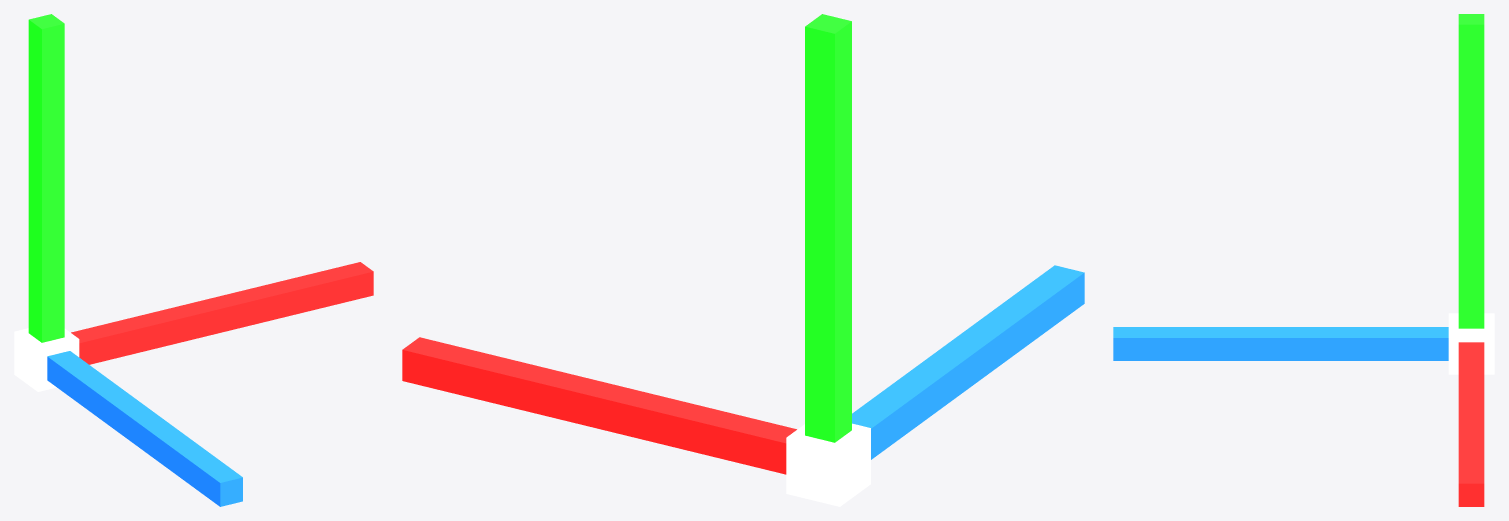
File: axis-triad.glb
3 views of the same model, side by side, from view 1: azimuth 30°, elevation 25°; view 2: azimuth 150°, elevation 25°; view 3: azimuth 270°, elevation 25° (orthographic). The views are drawn at different scales.
Parts seen in each view (by area): view 1: axis-triad; view 2: axis-triad; view 3: axis-triad.
Boxes of the visible parts, x1=… form: axis-triad: x1=14, y1=14, x2=373, y2=506; axis-triad: x1=402, y1=14, x2=1084, y2=506; axis-triad: x1=1113, y1=14, x2=1494, y2=506.
Size of the model in its own units: 7.45 by 7.45 by 7.45.
